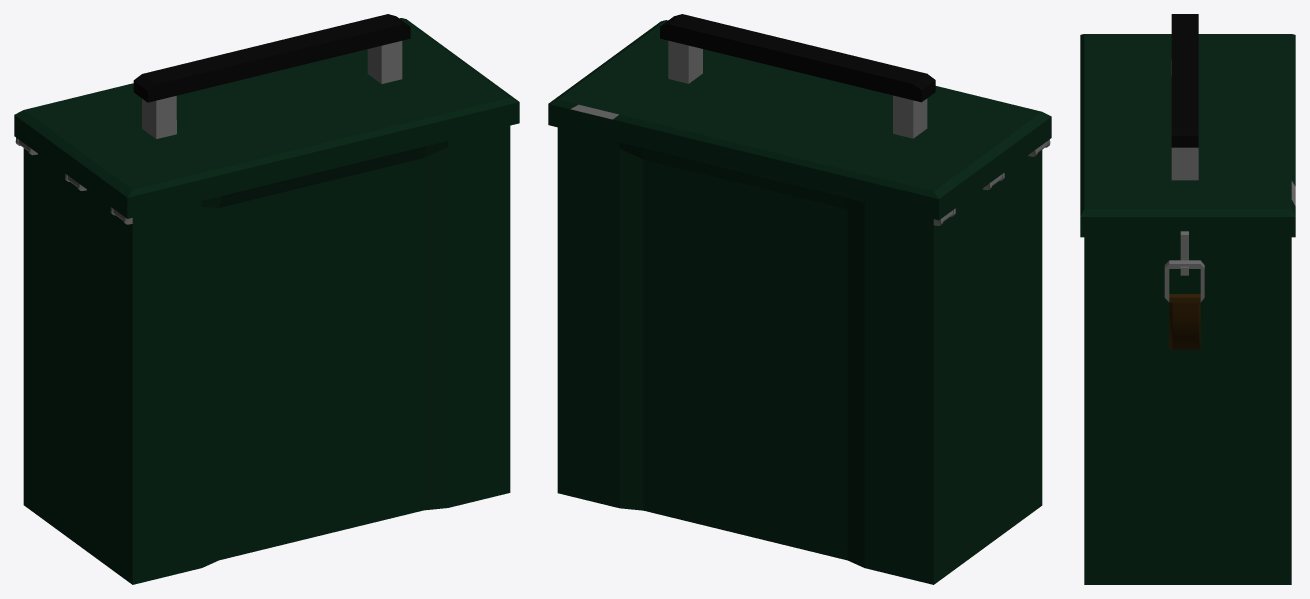
The model's file is Small Ammo Box.fbx.
3 views of the same model, side by side, from view 1: azimuth 30°, elevation 25°; view 2: azimuth 150°, elevation 25°; view 3: azimuth 270°, elevation 25° (orthographic). The views are drawn at different scales.
Visible parts, largest first — view 1: polySurface9; view 2: polySurface9; view 3: polySurface9.
Part boxes in pixels (x1,y1,x2,y2): polySurface9: (14, 14, 519, 584); polySurface9: (548, 14, 1051, 584); polySurface9: (1080, 14, 1295, 584).
Bounding box in the file's own units: 54.61 × 56.94 × 25.97.
